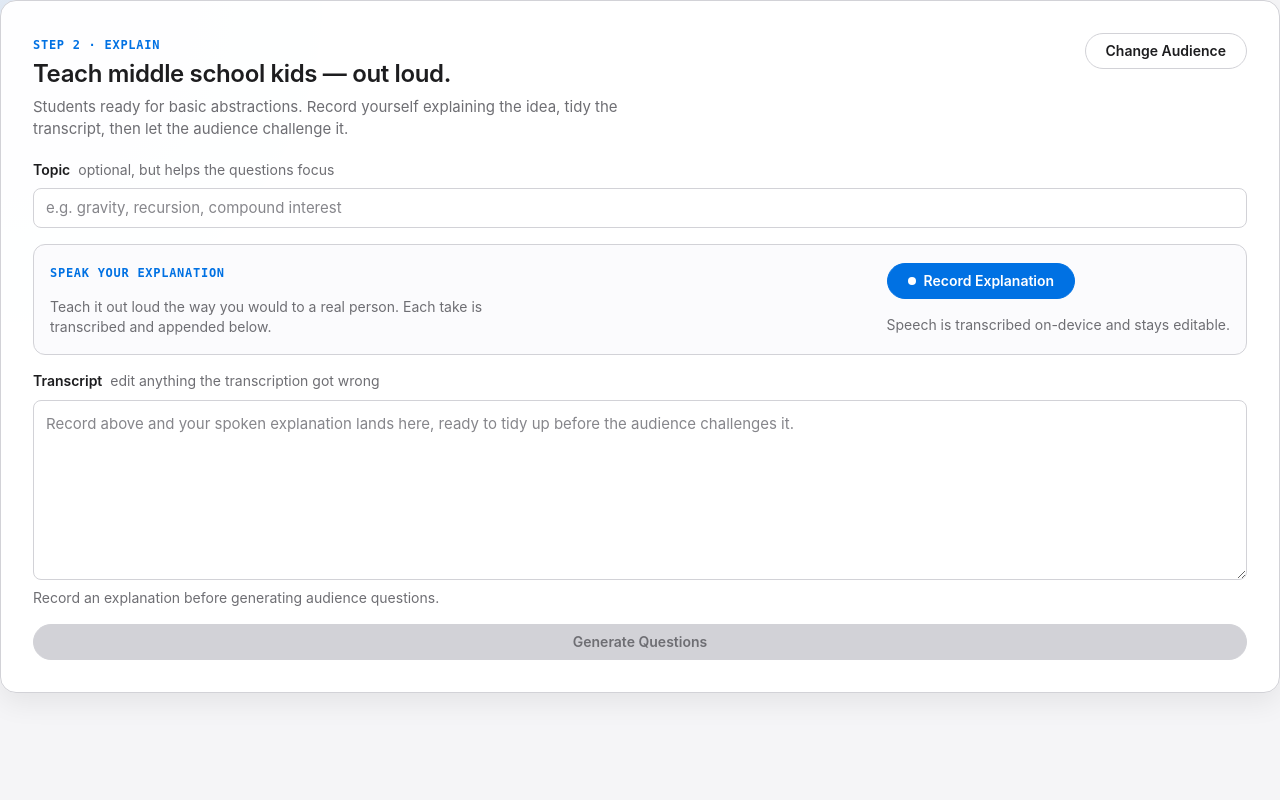
Test case: voice-first stages › keeps Generate Questions disabled until a transcript exists
The image size is (1280, 800).
Expected: the button named "Record Explanation" in the row of "Speak your explanation" is shown, 886,263 -> 1075,299
Expected: the 3rd button named "Generate Questions" is disabled, 33,624 -> 1247,660
Step 1. Type "Gravity pulls things down." into the text box named "Transcript" → (640, 490), box 33,400 -> 1247,580
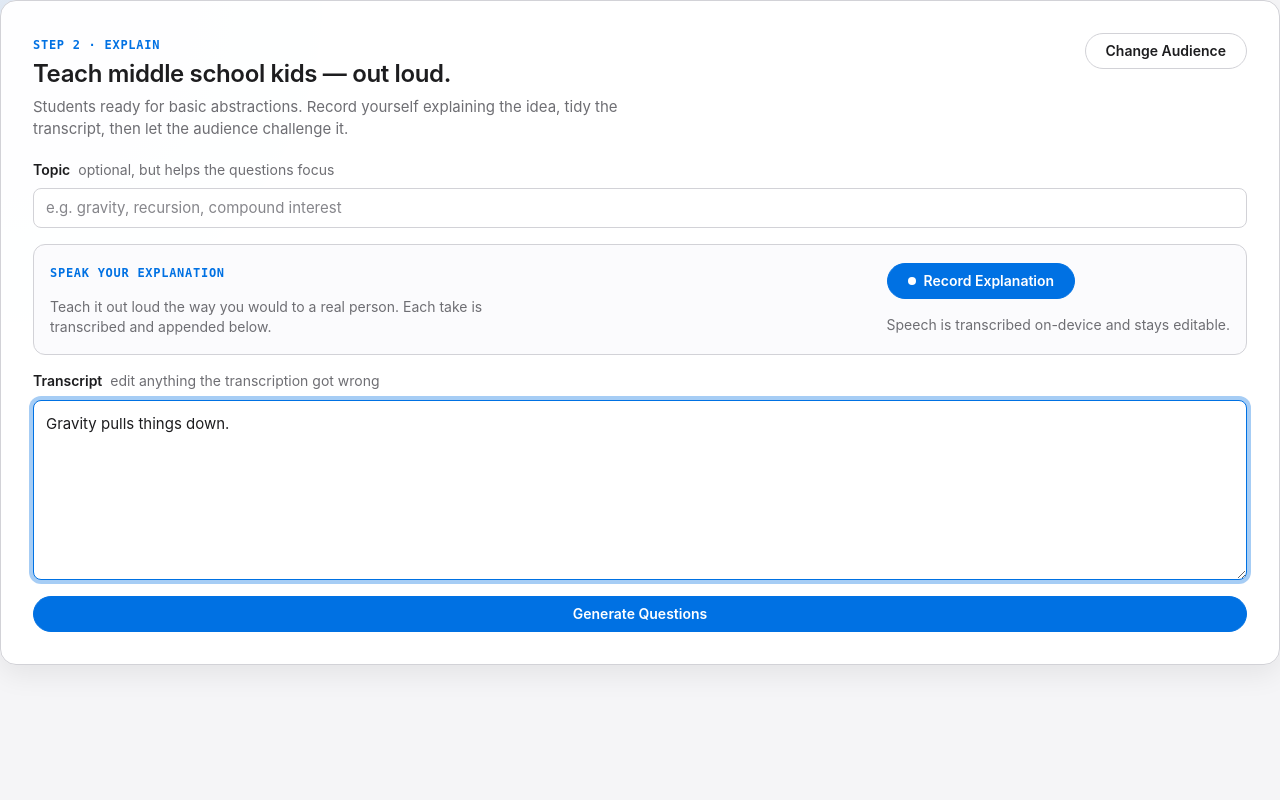
Expected: the 3rd button named "Generate Questions" is enabled, 33,596 -> 1247,632
